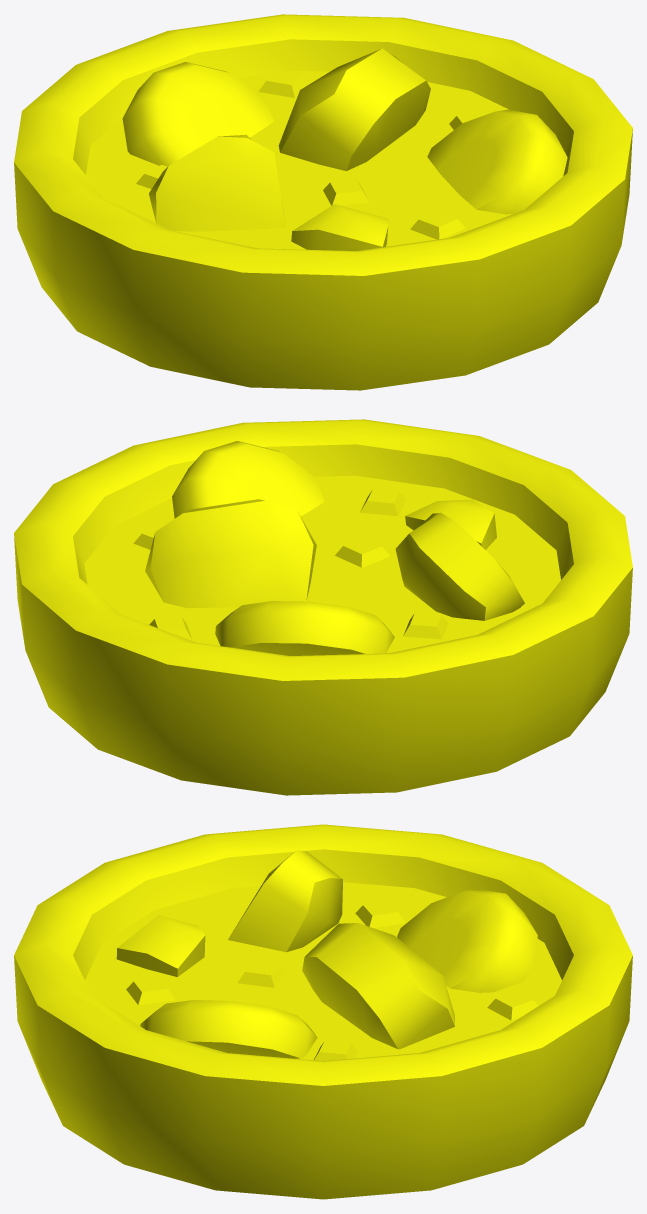
Rendered from food_stew.gltf.
3 views of the same model, one above another, from view 1: azimuth 30°, elevation 25°; view 2: azimuth 150°, elevation 25°; view 3: azimuth 270°, elevation 25° (orthographic).
Visible parts, largest first — view 1: food_stew; view 2: food_stew; view 3: food_stew.
Part boxes in pixels (<box>): food_stew: <box>14,14,632,390</box>; food_stew: <box>14,419,632,795</box>; food_stew: <box>14,824,632,1199</box>.
Size of the model in its own units: 0.95 by 0.3697 by 0.95.
Materials: 1 (1 with a texture image).
